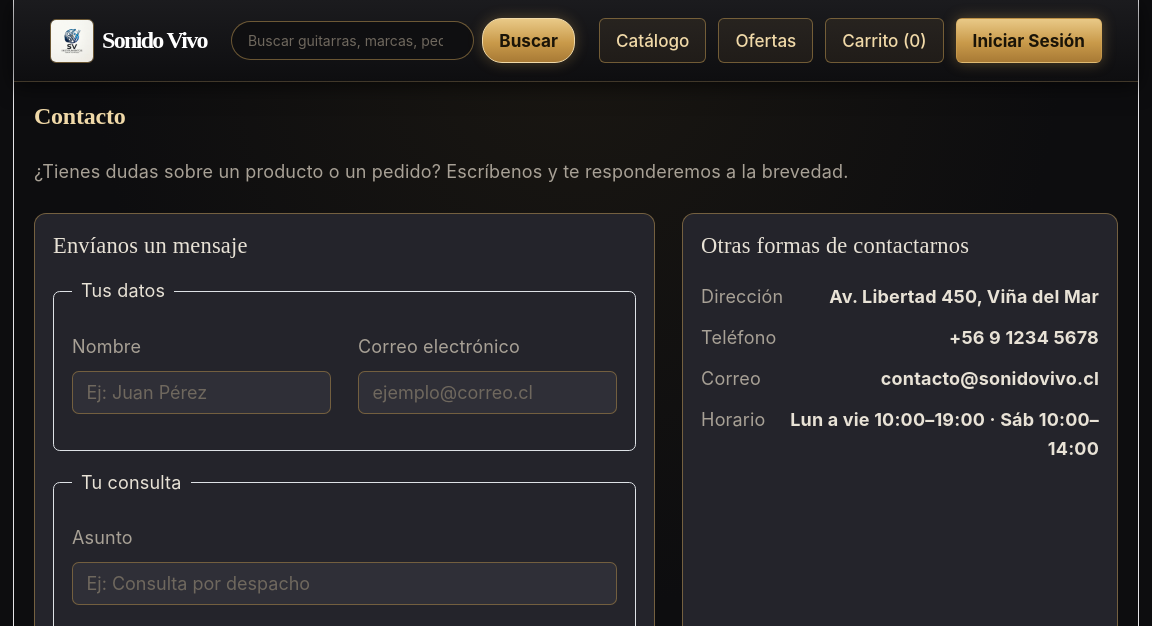
Test case: Página Contacto › muestra la confirmación al enviar un mensaje válido
In the field labelled "Nombre": (202, 392) [72,371,331,414], type "Juan Pérez"
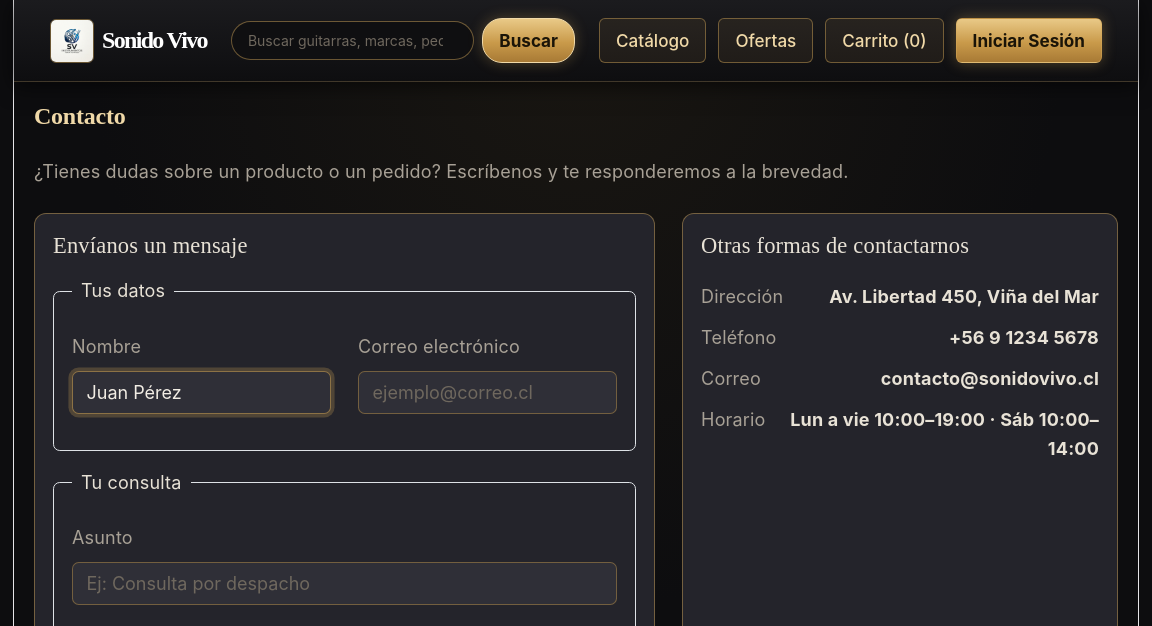
In the field labelled "Correo electrónico": (488, 392) [358,371,617,414], type "juan@correo.cl"
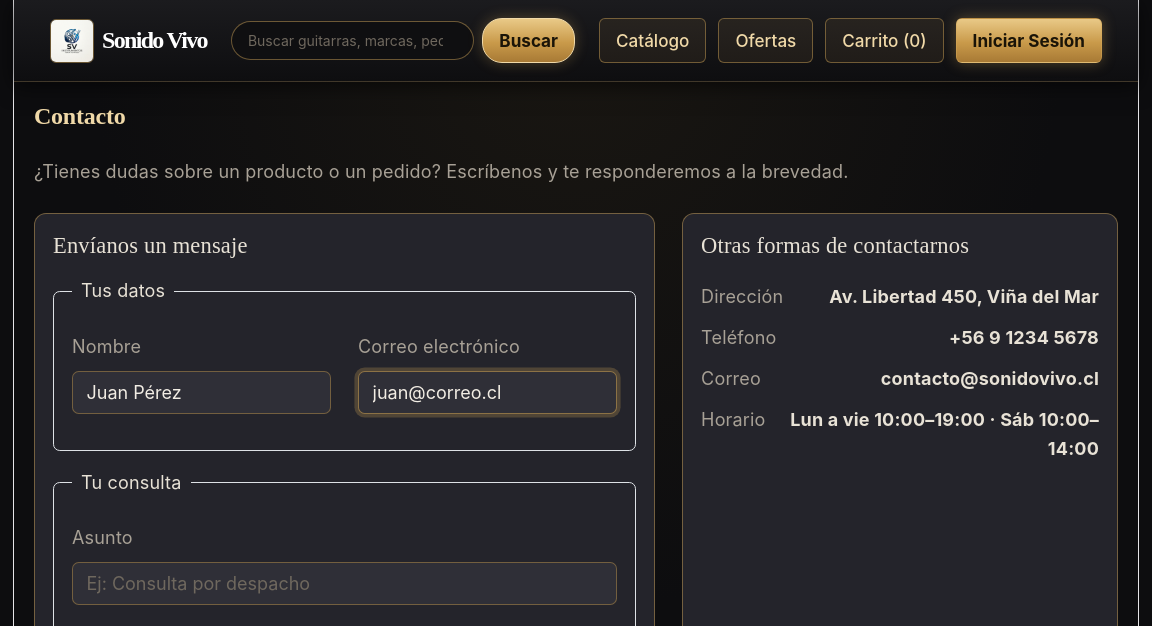
In the field labelled "Asunto": (345, 583) [72,562,617,605], type "Consulta por despacho"
(page scrolled)
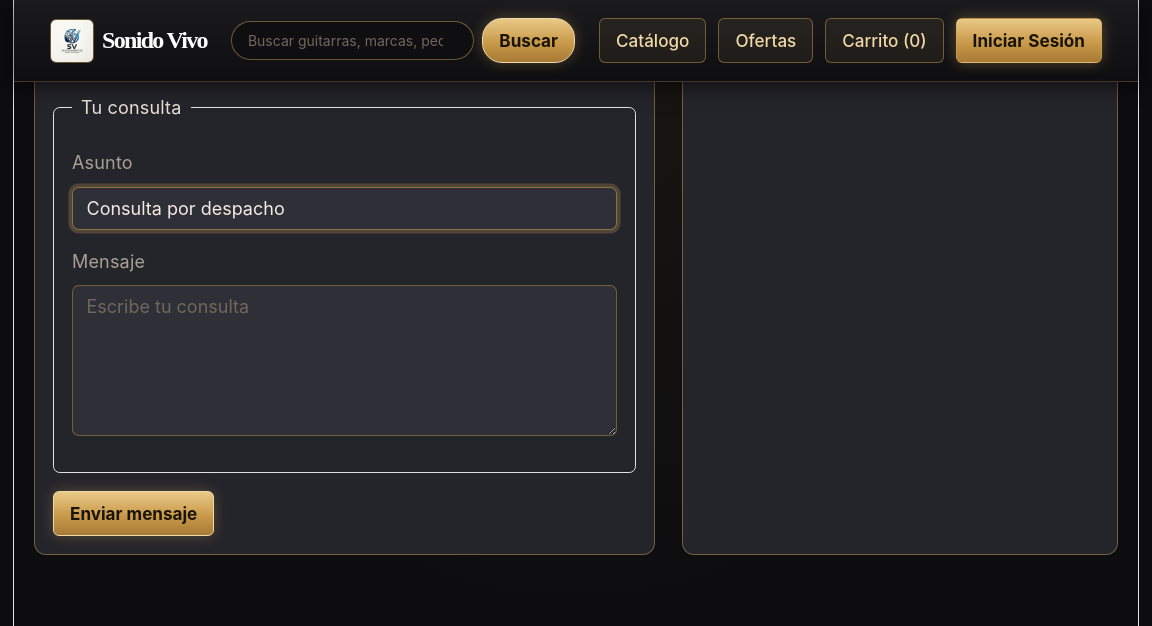
In the text box labelled "Mensaje": (345, 361) [72,285,617,436], type "¿Hacen despachos a Concepción?"
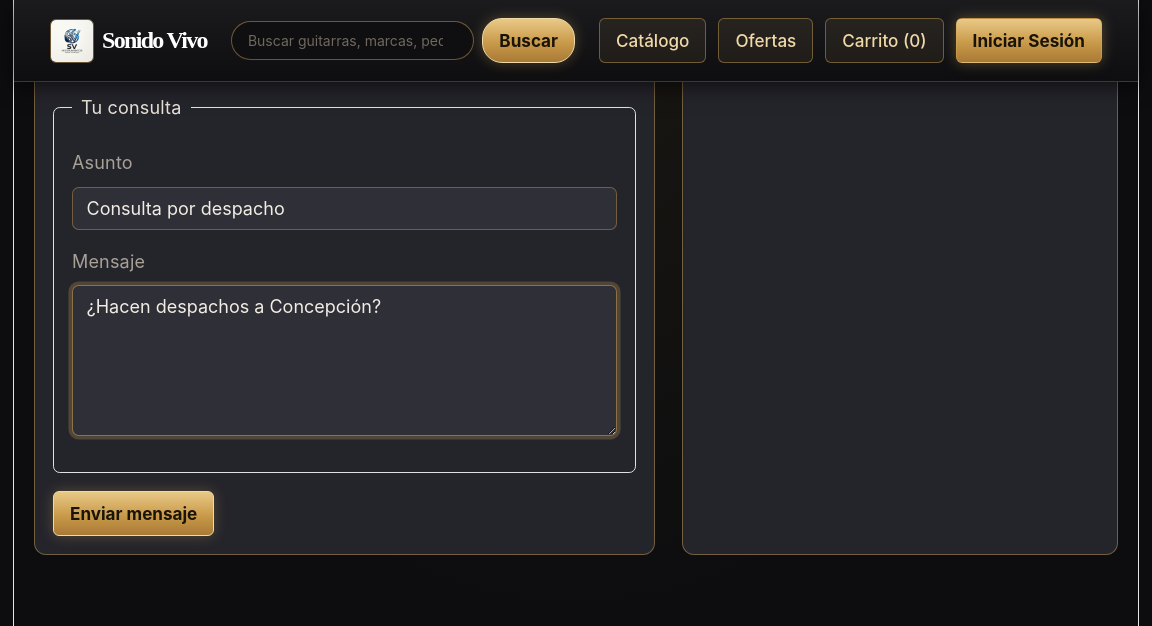
Click the button "Enviar mensaje": (134, 514) [53,491,214,536]
(page scrolled)
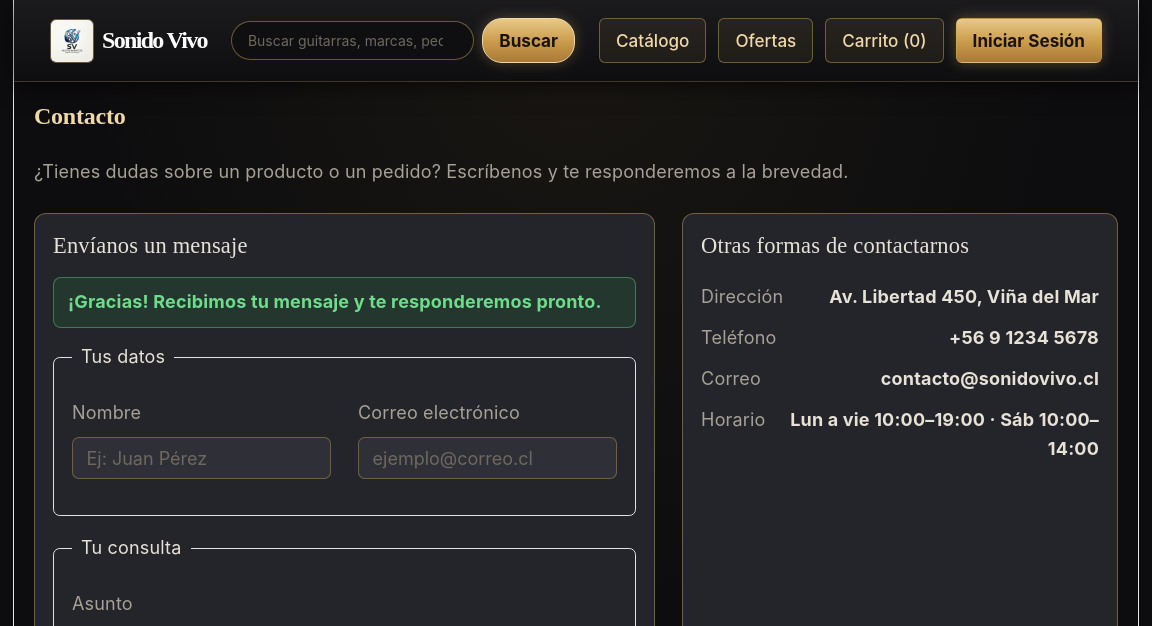
Expected: the text "¡Gracias! Recibimos tu mensaje y te responderemos pronto." is shown, [53,278,636,328]
